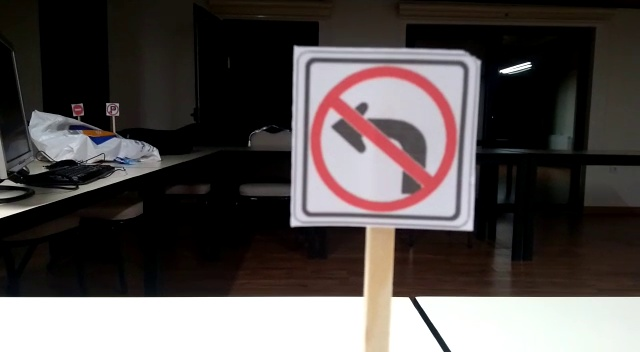sola_donulmez: (294, 53, 476, 223)
